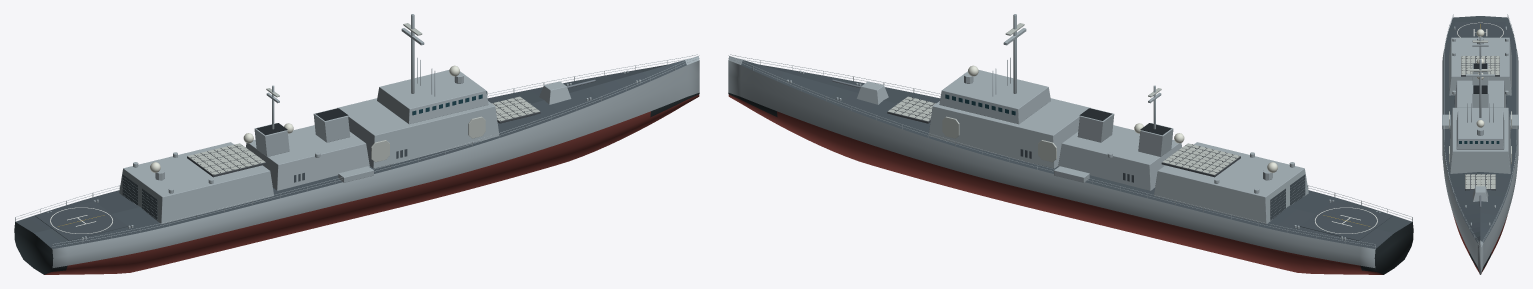
Rendered from usn_ddg_arleigh_burke_iia.glb.
The picture shows the model from 3 angles, left to right: view 1: azimuth 30°, elevation 25°; view 2: azimuth 150°, elevation 25°; view 3: azimuth 270°, elevation 25°; orthographic projection. The views are drawn at different scales.
Visible parts, largest first — view 1: usn_ddg_arleigh_burke_iia; view 2: usn_ddg_arleigh_burke_iia; view 3: usn_ddg_arleigh_burke_iia.
Part boxes in pixels (<box>): usn_ddg_arleigh_burke_iia: <box>14,14,699,274</box>; usn_ddg_arleigh_burke_iia: <box>728,14,1413,274</box>; usn_ddg_arleigh_burke_iia: <box>1442,14,1518,274</box>.
Size of the model in its own units: 10 by 2.57 by 1.35.
